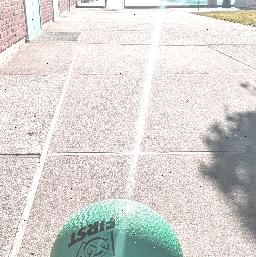algae: (47, 197, 183, 257)
